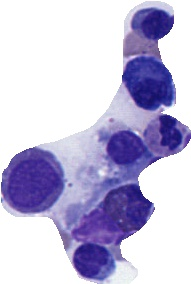objectness: (121, 55, 171, 105), (138, 112, 188, 162), (101, 180, 151, 230), (71, 202, 121, 252), (100, 124, 150, 174), (66, 235, 116, 284)
